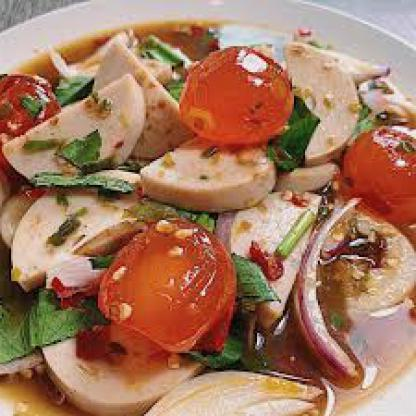Yum: (2, 9, 415, 415)
